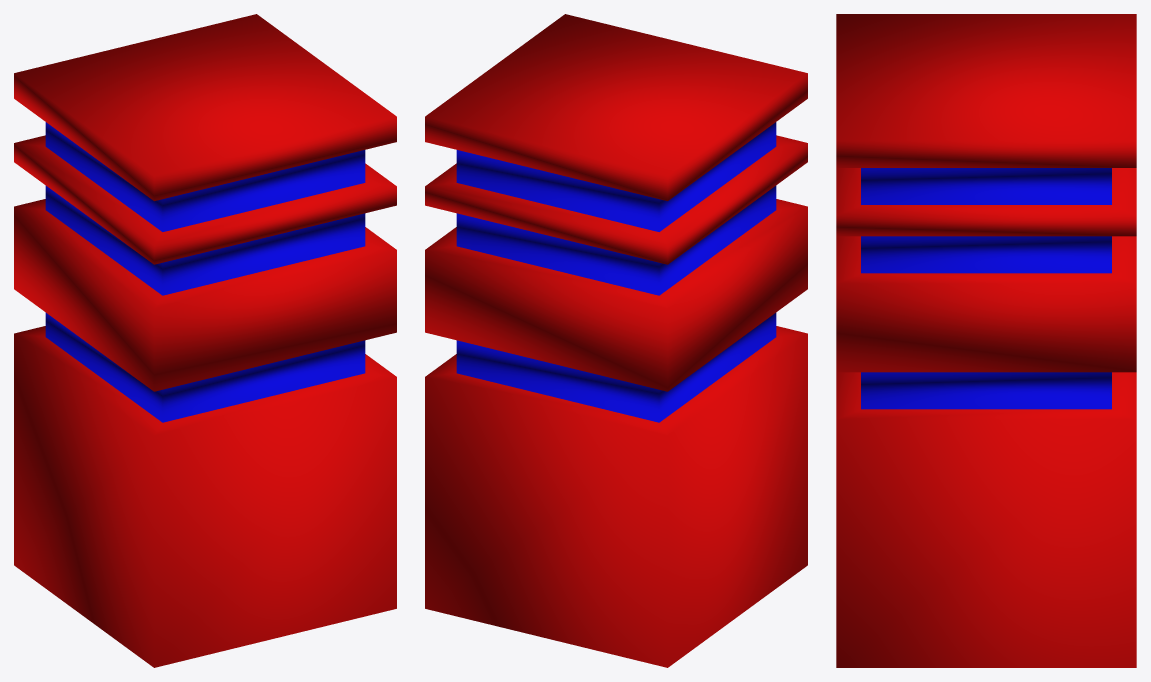
File: Lamp_LP.fbx
The picture shows the model from 3 angles, left to right: view 1: azimuth 30°, elevation 25°; view 2: azimuth 150°, elevation 25°; view 3: azimuth 270°, elevation 25°; orthographic projection. The views are drawn at different scales.
Parts seen in each view (by area): view 1: Lamp_LP; view 2: Lamp_LP; view 3: Lamp_LP.
Part boxes in pixels (box(x1,y1,x2,y2)): Lamp_LP: box(14, 14, 396, 667); Lamp_LP: box(425, 14, 807, 667); Lamp_LP: box(836, 14, 1136, 667).
Bounding box in the file's own units: 160 × 310 × 160.
